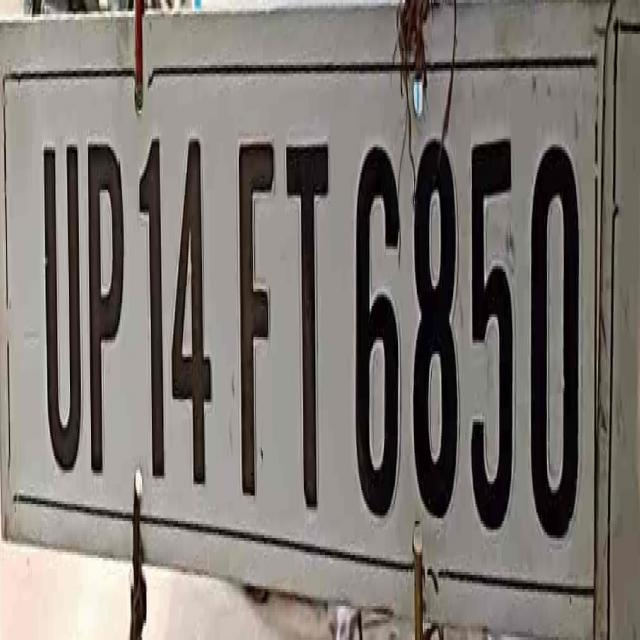0: (525, 114, 587, 567)
1: (136, 125, 168, 495)
4: (168, 122, 217, 500)
5: (466, 114, 520, 558)
6: (348, 111, 406, 533)
8: (407, 114, 462, 540)
F: (230, 102, 280, 520)
P: (85, 108, 130, 499)
T: (280, 86, 334, 534)
U: (34, 108, 86, 484)
